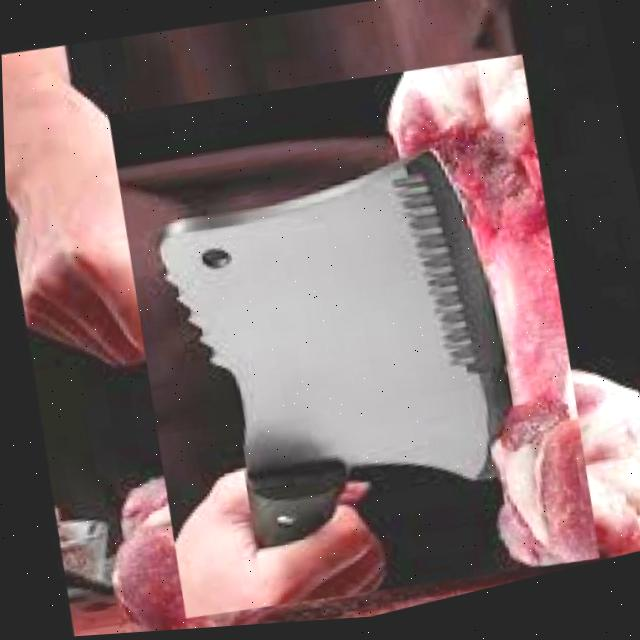knife: (145, 137, 532, 567)
